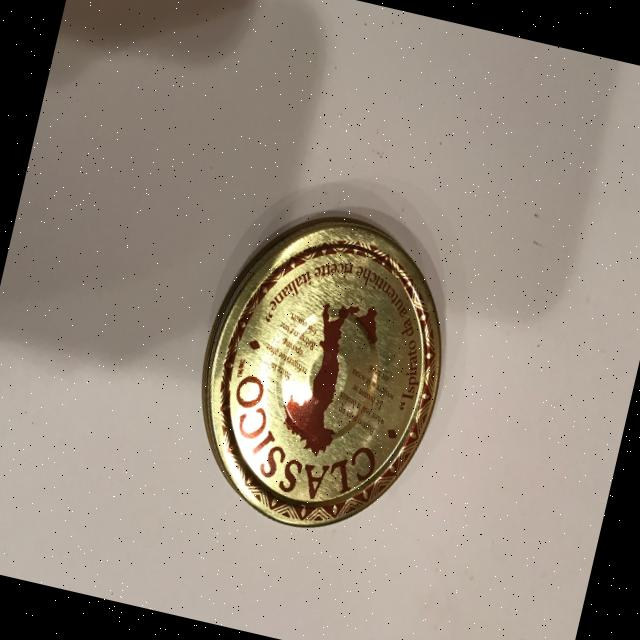metal: (170, 190, 472, 551)
